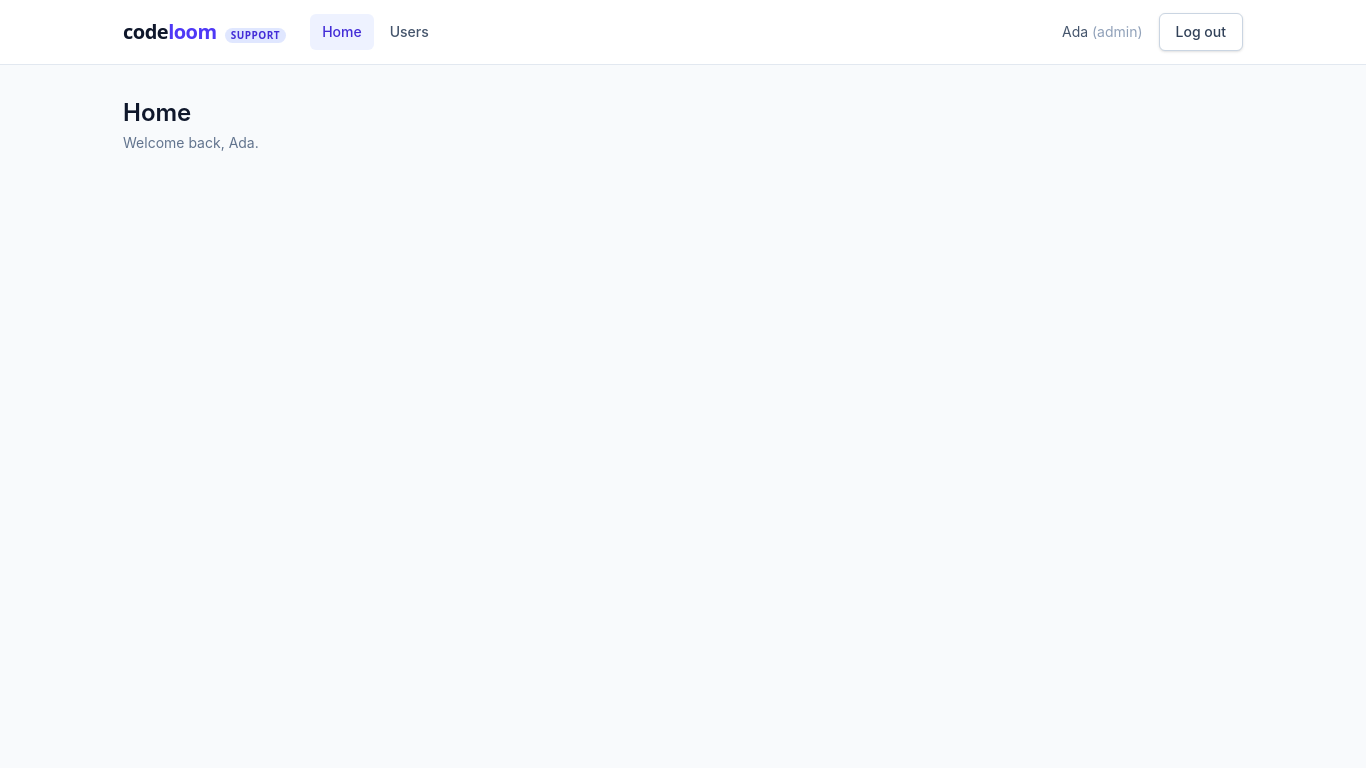
NavBar › navigates between home and users
This screenshot has width=1366, height=768.
Click the link "Users": [409, 32] box [390,23,429,40]
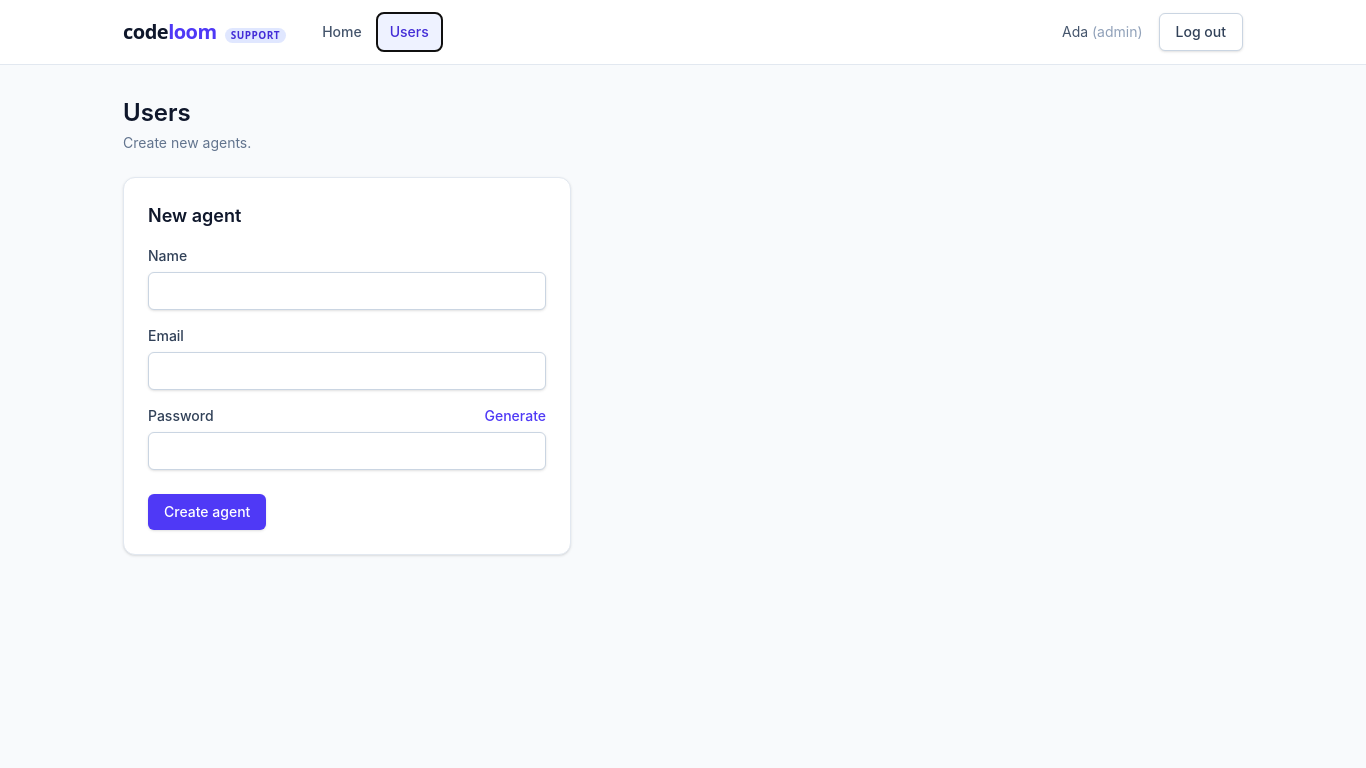
Check: the heading "Users" is shown, box [123,98,191,127]
Click the link "Home": [342, 32] box [322,23,362,40]
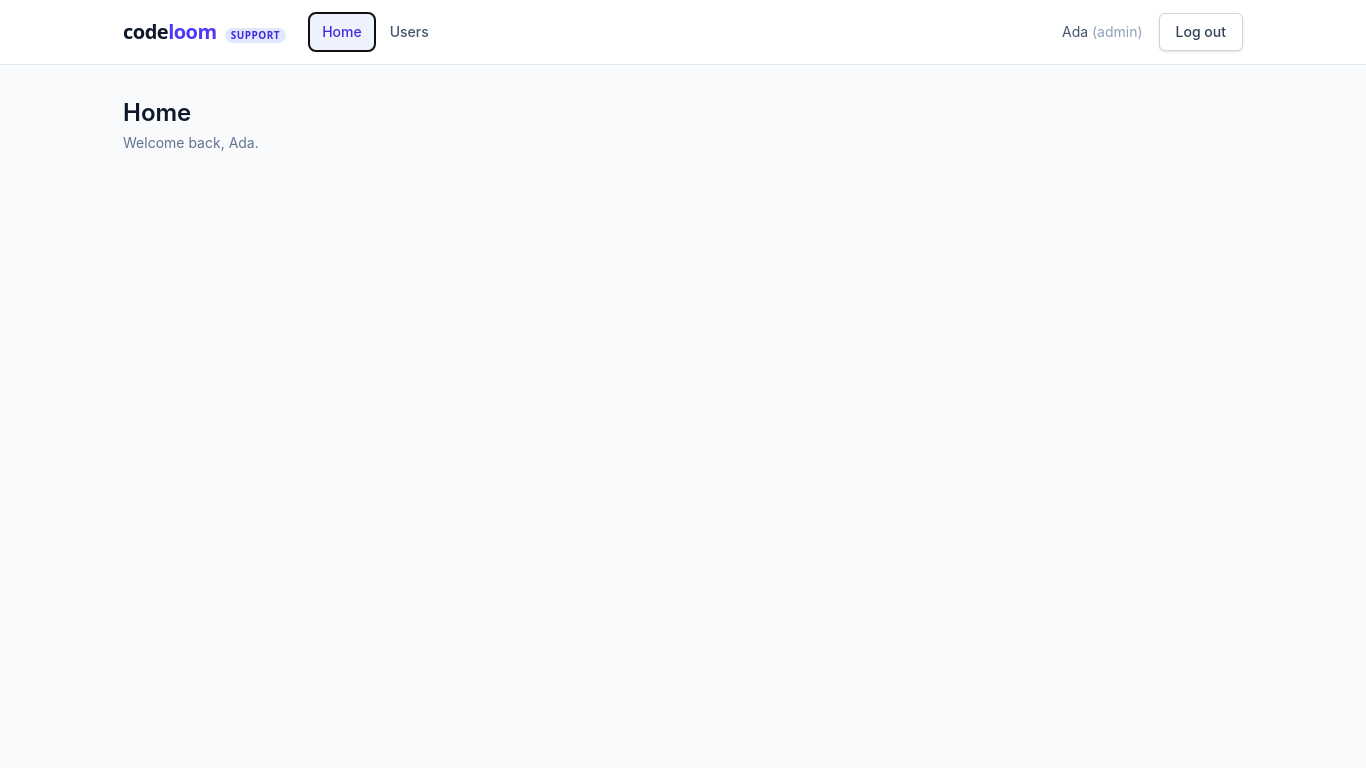
Check: the heading "Home" is shown, box [123,98,191,127]
